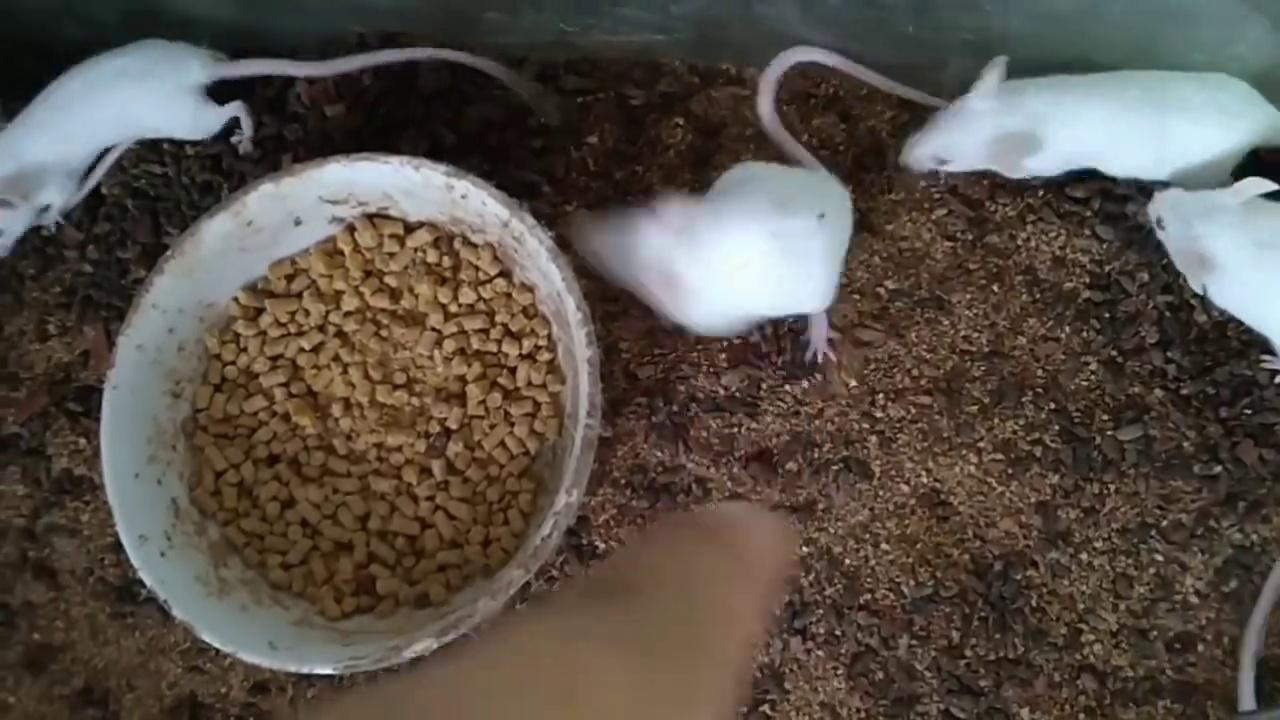rat: (562, 45, 954, 368), (0, 40, 530, 264), (900, 51, 1280, 181), (1147, 178, 1280, 381)
